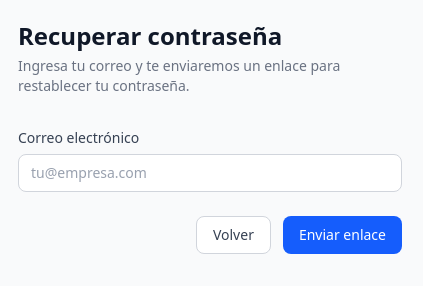
Test case: ForgotPasswordPage › muestra error de validación si el email no tiene "@"
Type "correo-invalido" into the field labelled "Correo electrónico".
click(210, 173); type("correo-invalido")  # box [18, 154, 402, 192]
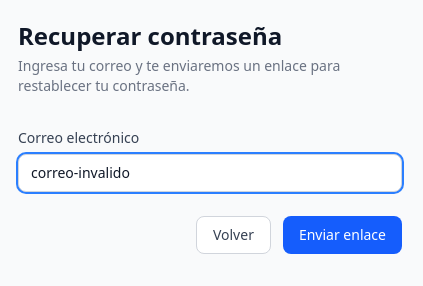
Click the button "Enviar enlace".
click(342, 235)  # box [283, 216, 402, 254]
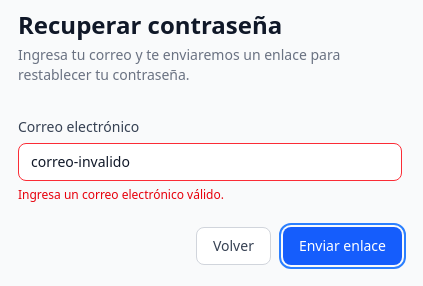
Now the text "Ingresa un correo electrónico válido." is shown, box [18, 186, 224, 203]
